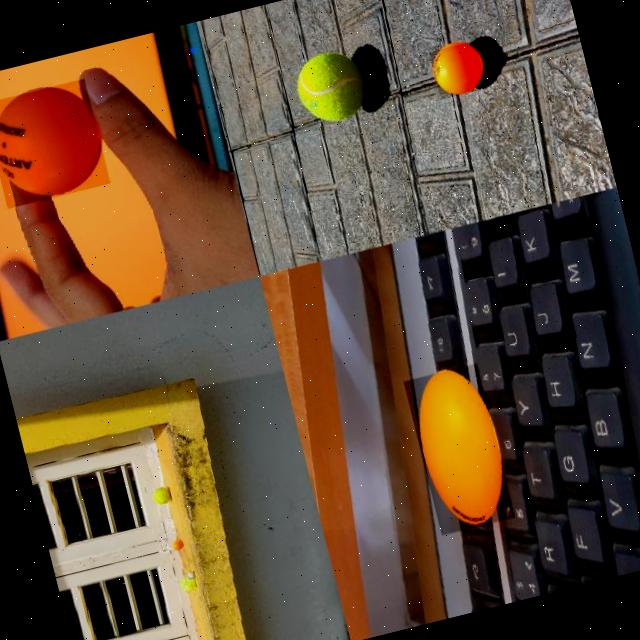ping-pong-ball: (402, 362, 514, 536), (0, 78, 109, 208), (427, 40, 487, 100), (171, 540, 183, 550)
